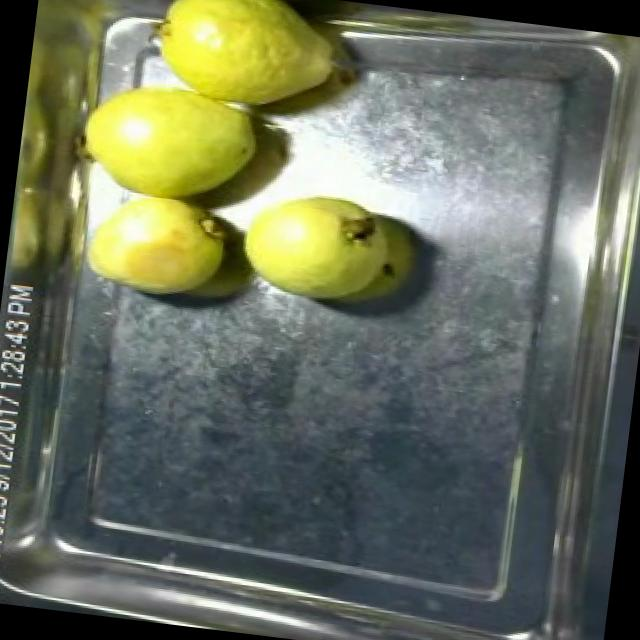Fruit: (58, 41, 276, 218), (225, 173, 433, 324), (127, 0, 349, 130), (74, 178, 240, 312)
